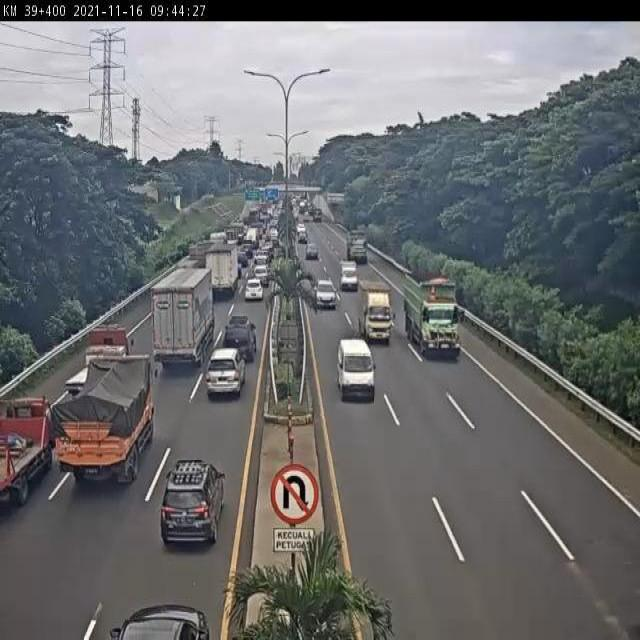car: (157, 456, 233, 552), (110, 598, 222, 640), (327, 335, 379, 401), (199, 347, 251, 402), (221, 312, 261, 364), (311, 273, 339, 316), (335, 260, 362, 293), (243, 278, 264, 306), (251, 264, 273, 288), (305, 242, 321, 262)
small truck: (0, 388, 57, 517)
truck-l-: (149, 269, 217, 371), (402, 269, 467, 363), (345, 230, 372, 266)
truck-m-: (58, 362, 157, 494), (61, 322, 136, 402), (353, 278, 397, 346), (204, 242, 243, 298)
